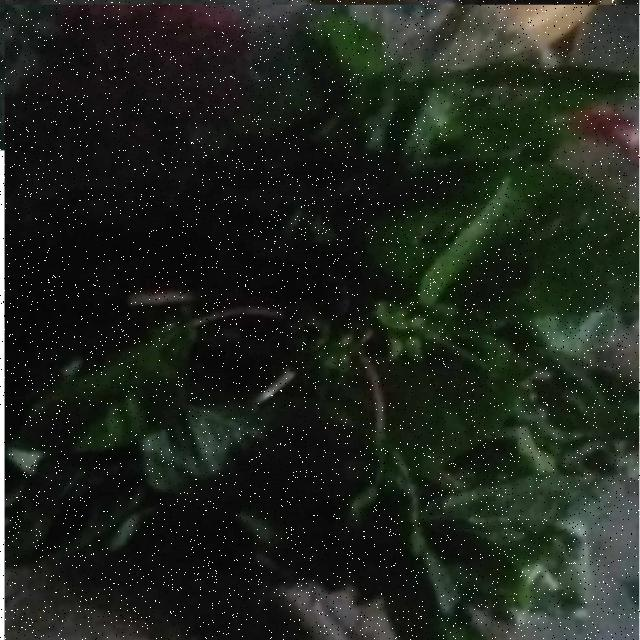Spinach: (74, 34, 597, 582)
